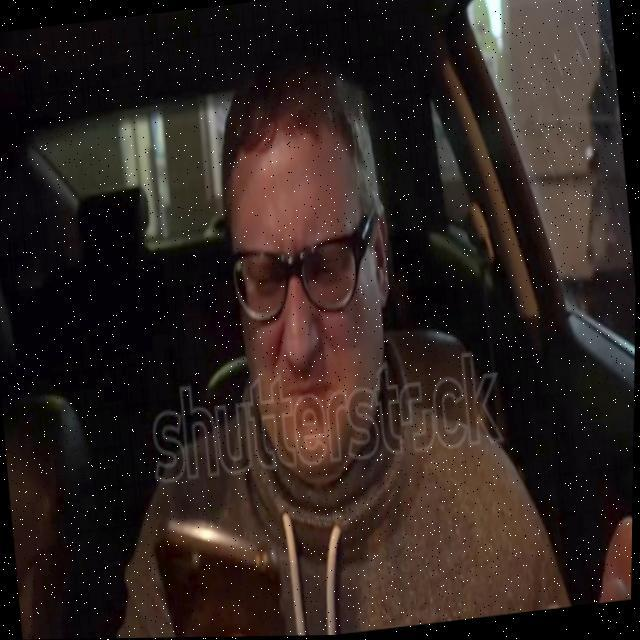PhoneCall: (144, 498, 292, 638)
